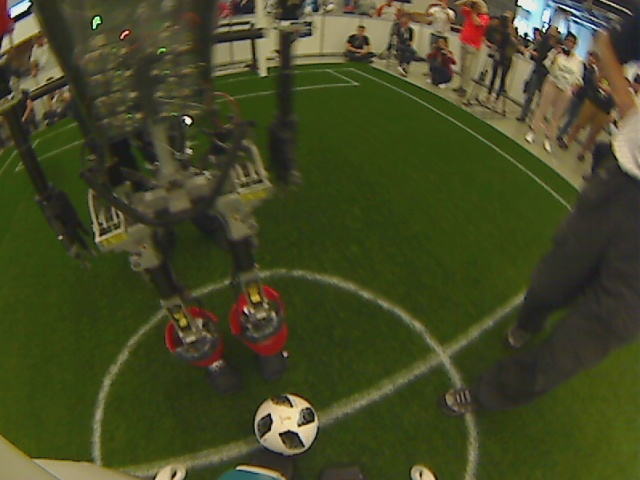ball: (251, 389, 322, 458)
